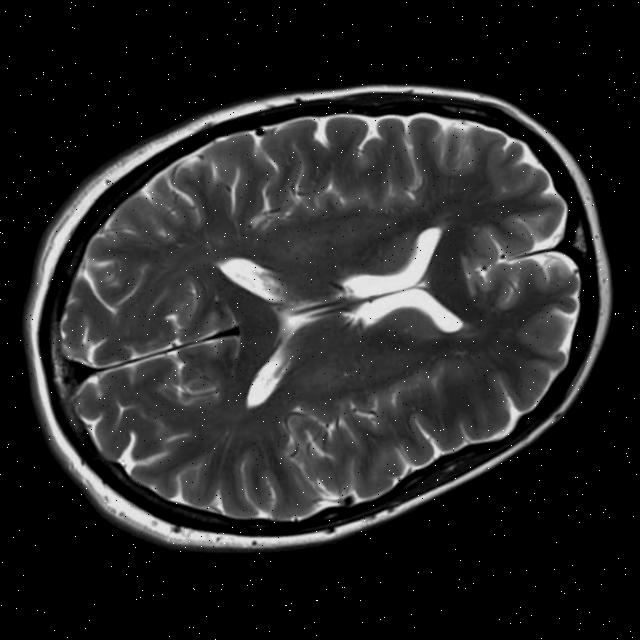NoTumor: (1, 13, 640, 618)
